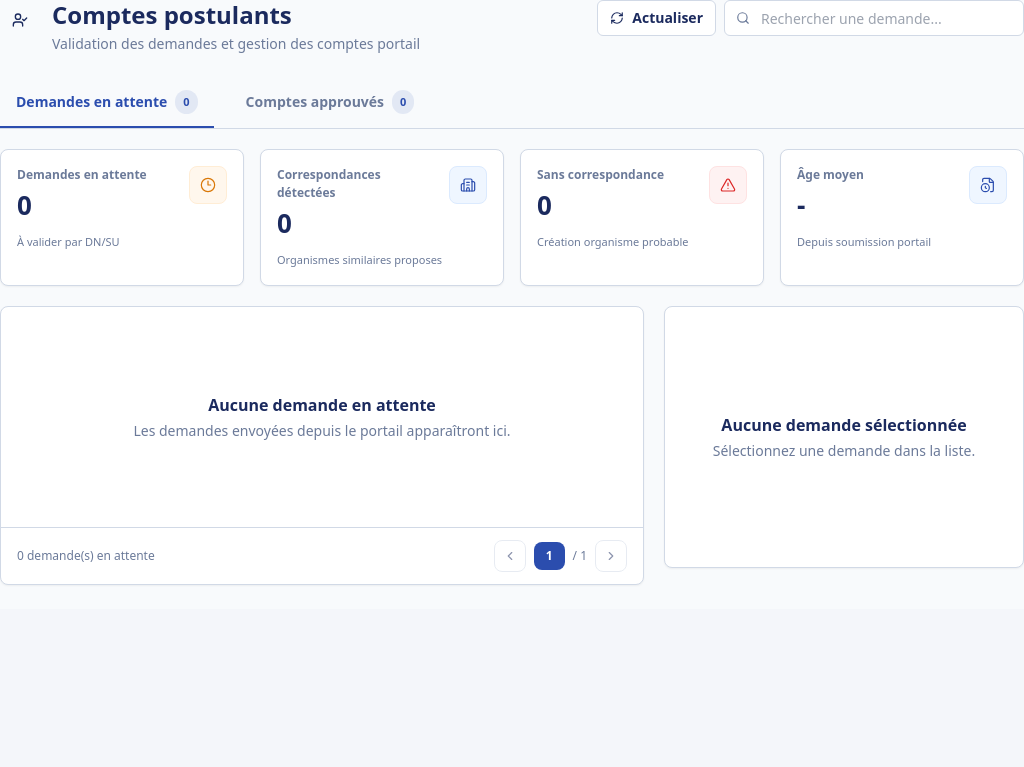
Scenario: <AccountRequestsPage> approved account edit › shows « Non renseigné » when there is no phone
Click the button "Comptes approuvés 0": (330, 103) [230, 78, 430, 128]
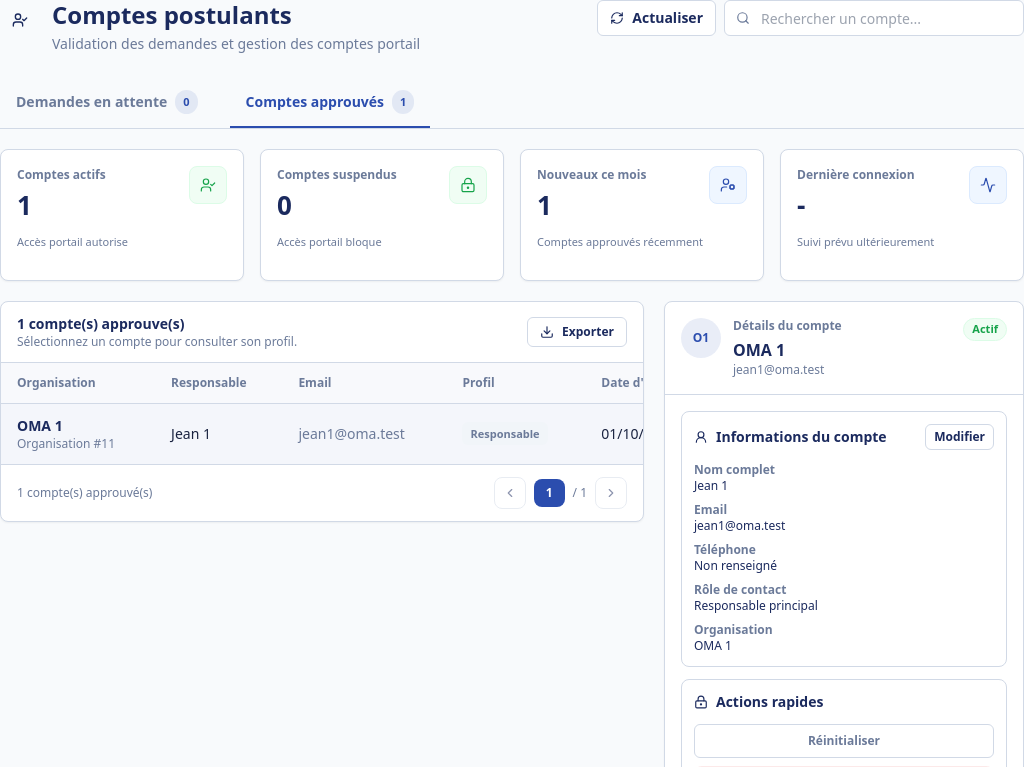
Now the text "Non renseigné" is shown, box [694, 557, 777, 574]
